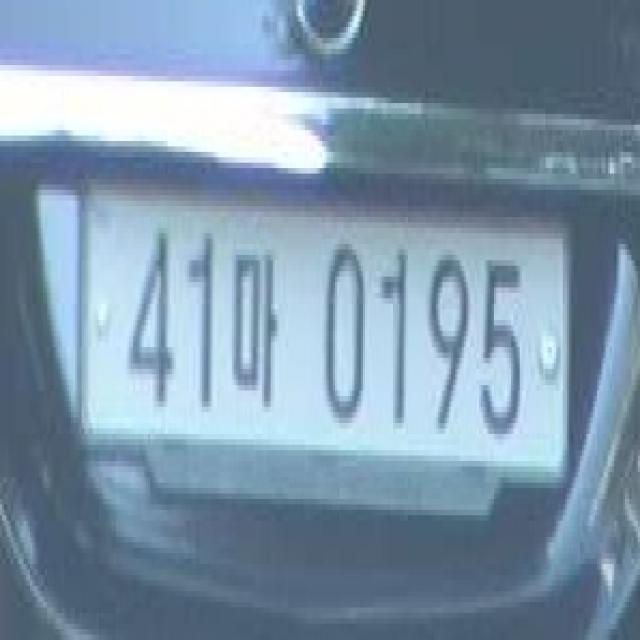0: (322, 233, 365, 429)
1: (187, 228, 219, 423), (382, 244, 410, 434)
4: (129, 233, 176, 412)
5: (481, 255, 524, 445)
9: (428, 244, 470, 439)
license_plate: (75, 162, 571, 493)
ma: (228, 244, 281, 412)
